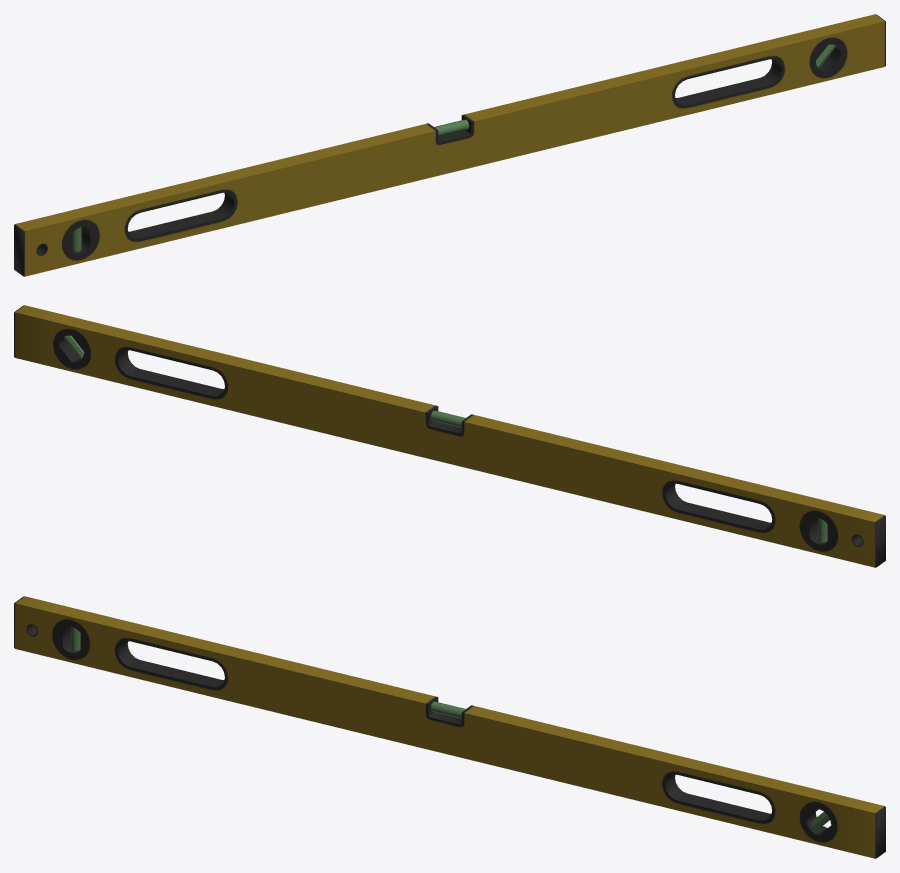
Rendered from uploads-files-2988947-level.fbx.
The picture shows the model from 3 angles, top to bottom: view 1: azimuth 30°, elevation 25°; view 2: azimuth 150°, elevation 25°; view 3: azimuth 330°, elevation 25°; orthographic projection.
Visible parts, largest first — view 1: level, glass; view 2: level, glass; view 3: level, glass.
Part boxes in pixels (x1,y1,x2,y2): level: [14, 14, 885, 276]; glass: [72, 44, 835, 251]; level: [14, 305, 885, 567]; glass: [64, 335, 827, 542]; level: [14, 596, 885, 858]; glass: [71, 626, 829, 829].
Bounding box in the file's own units: 99.27 × 5.01 × 1.94.
2 materials, 2 textured.
